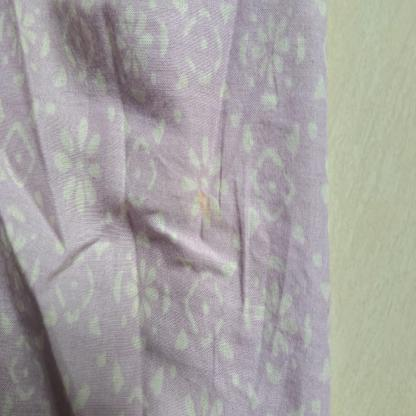spot: (197, 191, 222, 224), (261, 116, 293, 140)
